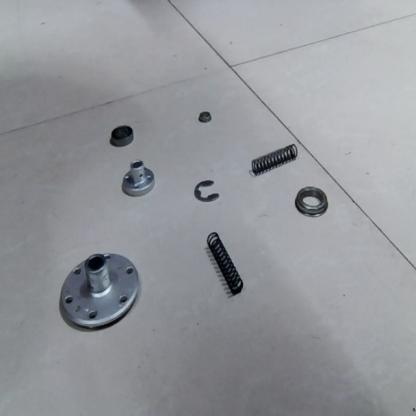FOD: (56, 247, 142, 334), (205, 228, 247, 300), (248, 138, 303, 177), (292, 184, 331, 222), (120, 158, 157, 198), (191, 178, 220, 207), (107, 121, 136, 149), (198, 108, 214, 126)
